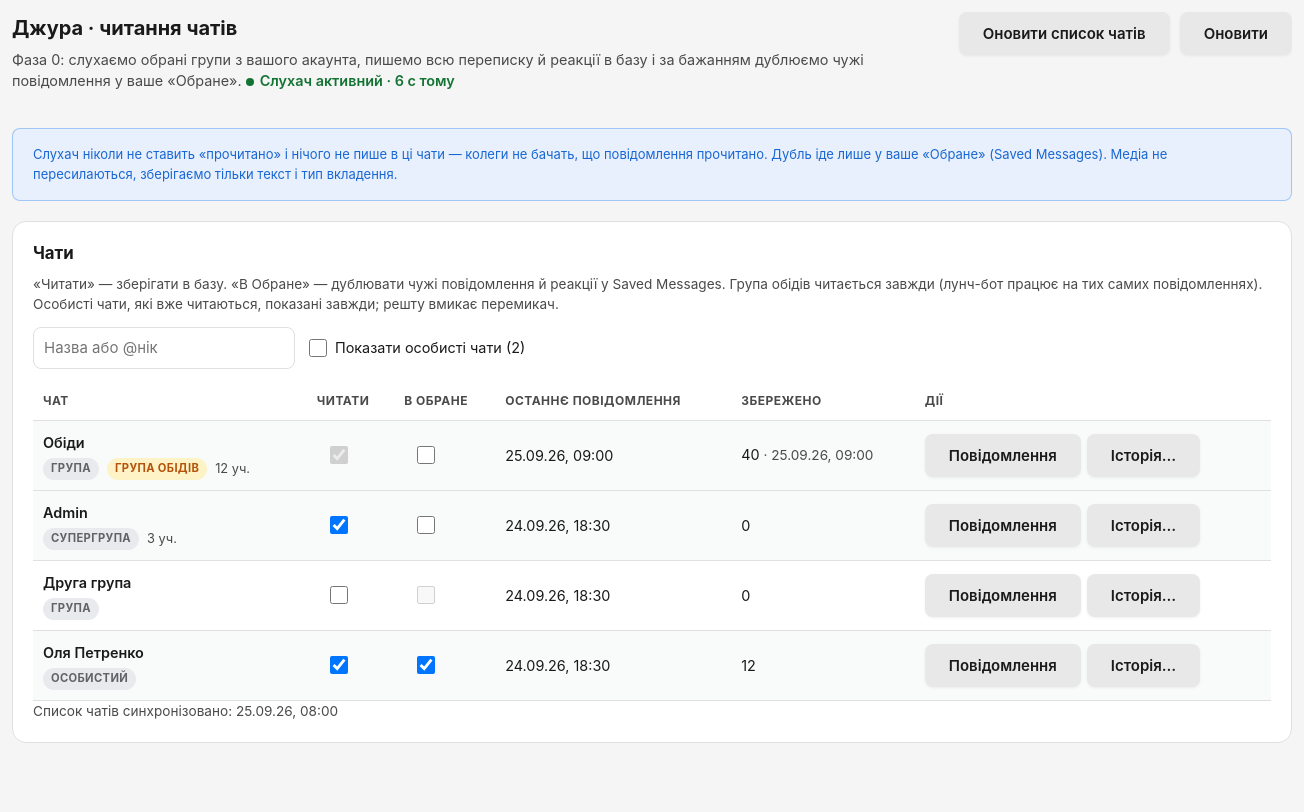
Test: DzhuraTab › прапорці шлють PATCH і застосовують відповідь
Expected: the text "Admin" is shown, [43,504,88,521]
Step 1. Click the checkbox named "В Обране: Admin" → (426, 525), box [417,516,435,534]
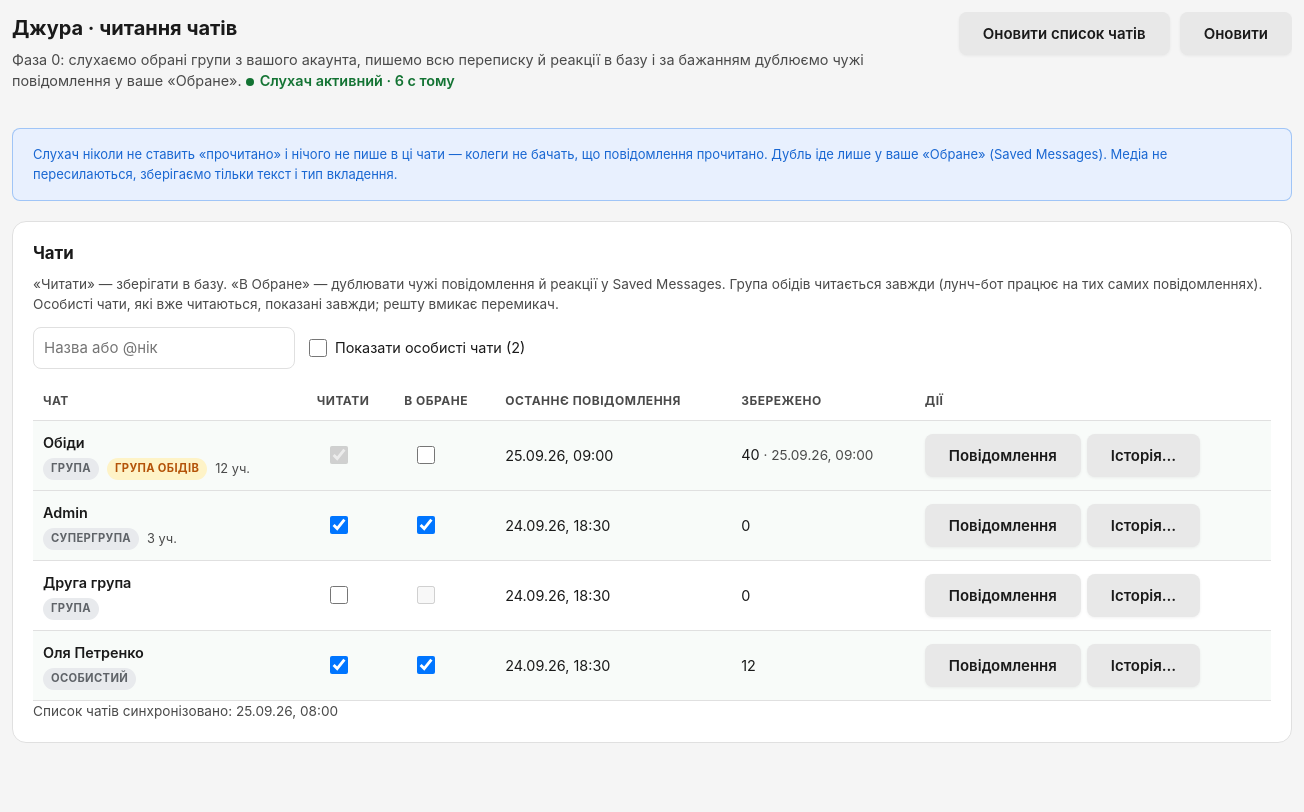
Expected: the checkbox named "В Обране: Admin" is checked, [417,516,435,534]
Step 2. Click the checkbox named "Читати: Друга група" → (339, 595), box [330,586,348,604]
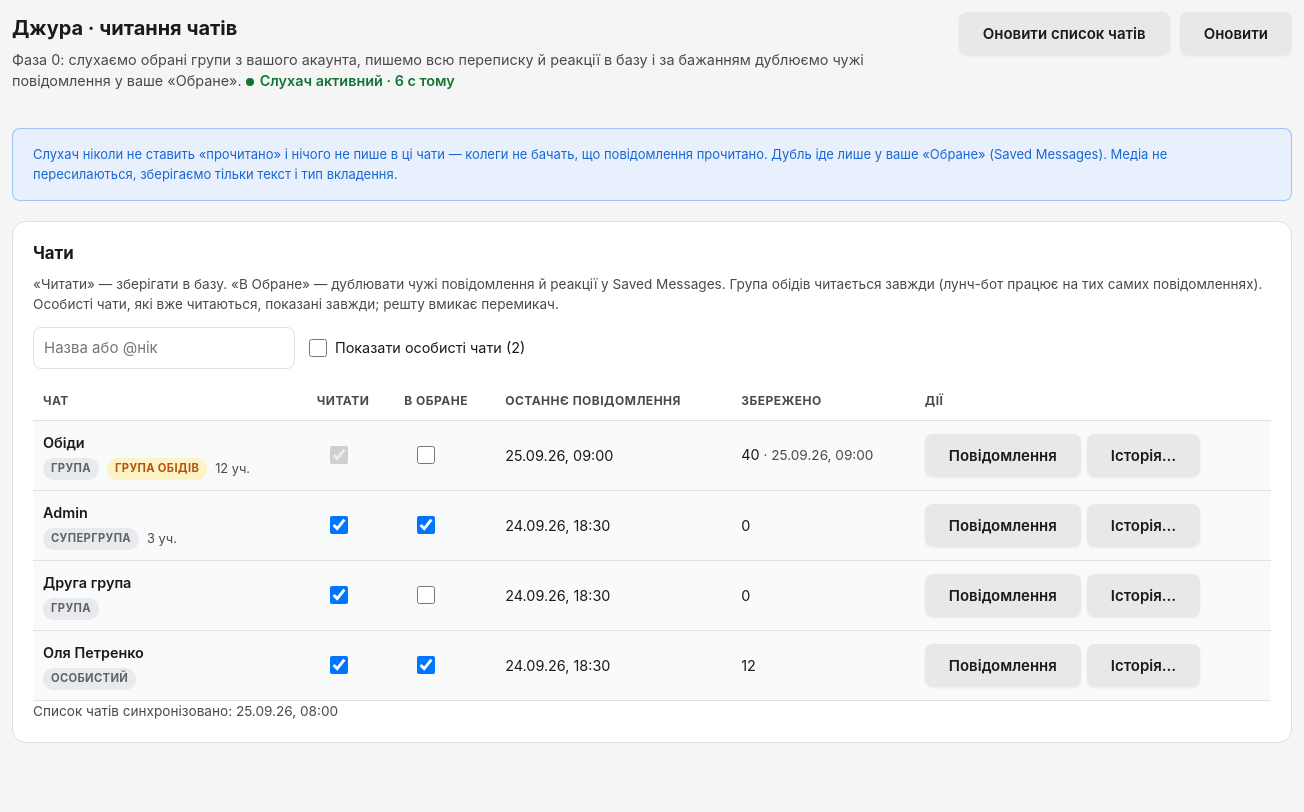
Expected: the checkbox named "В Обране: Друга група" is enabled, [417,586,435,604]
